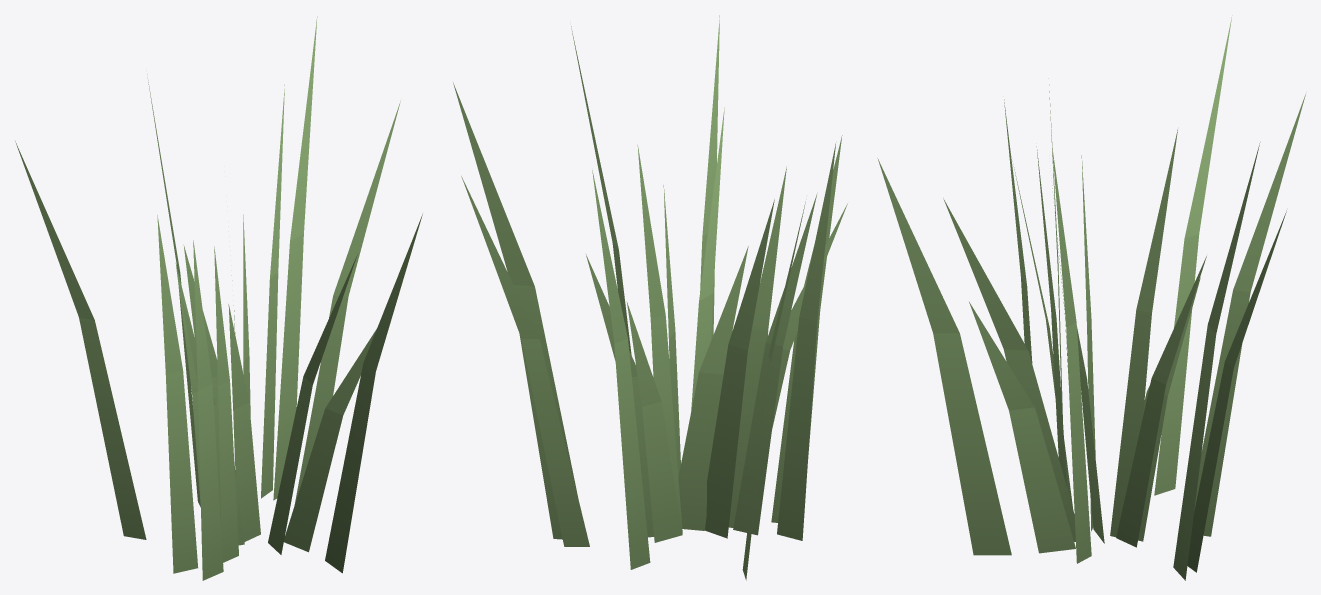
Rendered from grass_tall.glb.
3 views of the same model, side by side, from view 1: azimuth 30°, elevation 25°; view 2: azimuth 150°, elevation 25°; view 3: azimuth 270°, elevation 25° (orthographic). The views are drawn at different scales.
Parts seen in each view (by area): view 1: grass_tall; view 2: grass_tall; view 3: grass_tall.
Boxes of the visible parts, x1,y1,x2,y2 form: grass_tall: (15,16,422,580); grass_tall: (453,15,847,580); grass_tall: (877,15,1305,580).
Bounding box in the file's own units: 0.6062 × 0.7995 × 0.6587.
